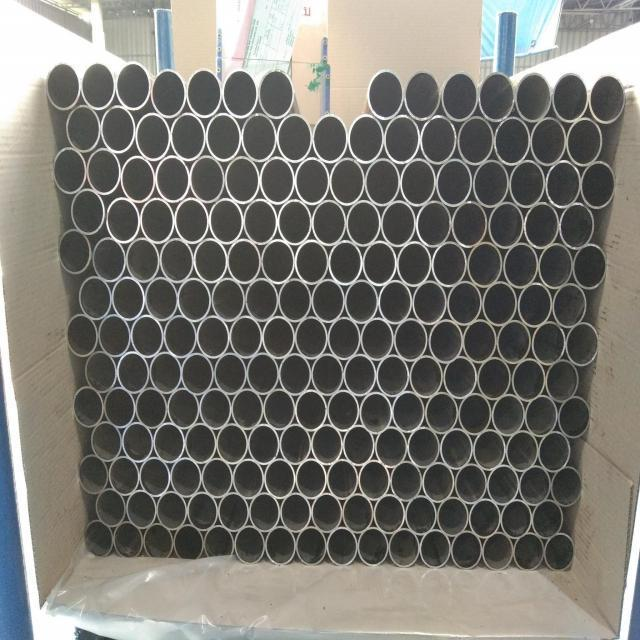pipe: (551, 70, 590, 122), (588, 72, 627, 124), (529, 115, 567, 168), (403, 69, 442, 120), (477, 70, 515, 122), (514, 70, 552, 122), (457, 114, 495, 166), (383, 113, 421, 165), (420, 114, 458, 166), (186, 66, 223, 119), (440, 70, 478, 121), (493, 115, 531, 166), (222, 67, 259, 119), (566, 115, 603, 167), (100, 103, 136, 156), (472, 159, 510, 209), (435, 158, 473, 208), (45, 60, 82, 111), (150, 67, 187, 118), (367, 69, 404, 120), (135, 110, 172, 161), (312, 113, 349, 164), (276, 112, 313, 163), (80, 60, 117, 111), (206, 111, 242, 163), (224, 155, 261, 205), (508, 159, 545, 209), (400, 157, 437, 207), (348, 113, 385, 163), (545, 159, 582, 209), (258, 68, 294, 119), (116, 61, 152, 112), (241, 112, 277, 163), (170, 111, 206, 162), (451, 200, 489, 248), (523, 201, 560, 250), (71, 187, 107, 237), (329, 156, 365, 206), (580, 160, 616, 210), (294, 156, 330, 206), (259, 155, 295, 205), (189, 154, 225, 204), (365, 157, 401, 207), (105, 194, 141, 244), (66, 103, 101, 154), (487, 201, 524, 249), (502, 241, 539, 289), (416, 200, 453, 248), (120, 154, 156, 203), (86, 147, 122, 196), (381, 199, 417, 248), (91, 235, 127, 283), (558, 202, 594, 250), (538, 242, 574, 290), (140, 196, 176, 244), (346, 199, 382, 247), (311, 199, 347, 247), (277, 198, 313, 246), (174, 196, 209, 245), (155, 155, 190, 204), (243, 197, 278, 246), (481, 281, 518, 327), (466, 241, 503, 287), (431, 241, 468, 287), (209, 197, 244, 245), (517, 282, 553, 328), (396, 241, 432, 287), (531, 320, 567, 366), (57, 229, 92, 276), (52, 147, 87, 194), (552, 282, 587, 329), (362, 239, 397, 286), (125, 237, 160, 284), (412, 280, 448, 325), (447, 281, 483, 326), (496, 320, 532, 365), (377, 280, 413, 325), (428, 318, 464, 363), (572, 243, 607, 289), (244, 277, 279, 323), (211, 277, 246, 323), (277, 277, 312, 323), (227, 238, 262, 284), (260, 238, 295, 284), (177, 276, 212, 322), (144, 276, 179, 322), (159, 237, 194, 283), (78, 274, 113, 320), (193, 238, 228, 284), (294, 239, 329, 285), (328, 240, 363, 286), (476, 357, 512, 401), (393, 318, 429, 362), (462, 319, 497, 364), (511, 357, 546, 402), (344, 279, 379, 324), (311, 278, 346, 323), (163, 314, 198, 359), (375, 354, 410, 398), (360, 317, 395, 361), (424, 391, 459, 435), (196, 315, 231, 359), (262, 315, 296, 360), (294, 315, 328, 360), (327, 316, 361, 361), (112, 276, 146, 321), (98, 313, 132, 358), (229, 314, 263, 359), (443, 356, 478, 399), (409, 355, 444, 398), (457, 392, 492, 435), (491, 394, 526, 437), (391, 390, 426, 433), (65, 313, 99, 357), (565, 322, 599, 366), (130, 314, 164, 358), (545, 359, 579, 403), (439, 428, 474, 470), (311, 353, 345, 396), (343, 354, 377, 397), (214, 352, 248, 395), (407, 426, 441, 469), (524, 395, 558, 438), (149, 351, 182, 395), (246, 353, 280, 395), (359, 391, 393, 433), (374, 426, 408, 468), (472, 429, 506, 471), (327, 389, 360, 432), (279, 353, 312, 396), (263, 388, 296, 431), (181, 352, 214, 395), (199, 387, 232, 430), (231, 388, 264, 431), (505, 429, 538, 472), (117, 351, 150, 394), (85, 350, 118, 393), (558, 396, 591, 439), (167, 387, 200, 429), (486, 464, 519, 506), (295, 389, 328, 431), (248, 423, 281, 465), (310, 423, 343, 465), (216, 423, 249, 465), (538, 430, 571, 472), (279, 423, 312, 465), (103, 386, 136, 428), (135, 387, 168, 429), (550, 465, 583, 507), (468, 498, 501, 539), (342, 425, 375, 466), (518, 465, 551, 506), (232, 458, 265, 499), (422, 461, 455, 502), (454, 463, 487, 504), (404, 495, 437, 536), (390, 460, 423, 501), (358, 459, 391, 500), (264, 458, 296, 500), (153, 422, 185, 464), (327, 458, 359, 500), (295, 458, 327, 500), (73, 386, 105, 428), (450, 530, 483, 570), (436, 496, 469, 536), (500, 498, 532, 539), (531, 499, 563, 540), (201, 457, 233, 498), (91, 421, 123, 462), (170, 457, 202, 498), (122, 422, 154, 463), (513, 531, 545, 572), (388, 527, 420, 568), (311, 492, 343, 533), (218, 491, 250, 532), (373, 493, 405, 534), (342, 493, 374, 534), (185, 422, 217, 463), (280, 492, 312, 533), (419, 529, 451, 569), (482, 531, 514, 571), (249, 492, 281, 532), (95, 488, 127, 528), (156, 490, 187, 531), (139, 456, 170, 497), (327, 526, 358, 567), (544, 532, 575, 573), (78, 454, 109, 494), (109, 455, 140, 495), (126, 489, 157, 529), (265, 525, 296, 565), (187, 491, 218, 531), (234, 525, 265, 565), (358, 526, 389, 566), (296, 526, 327, 566), (113, 520, 144, 559), (84, 519, 114, 559), (143, 523, 174, 560), (174, 524, 204, 562), (204, 524, 234, 561)
